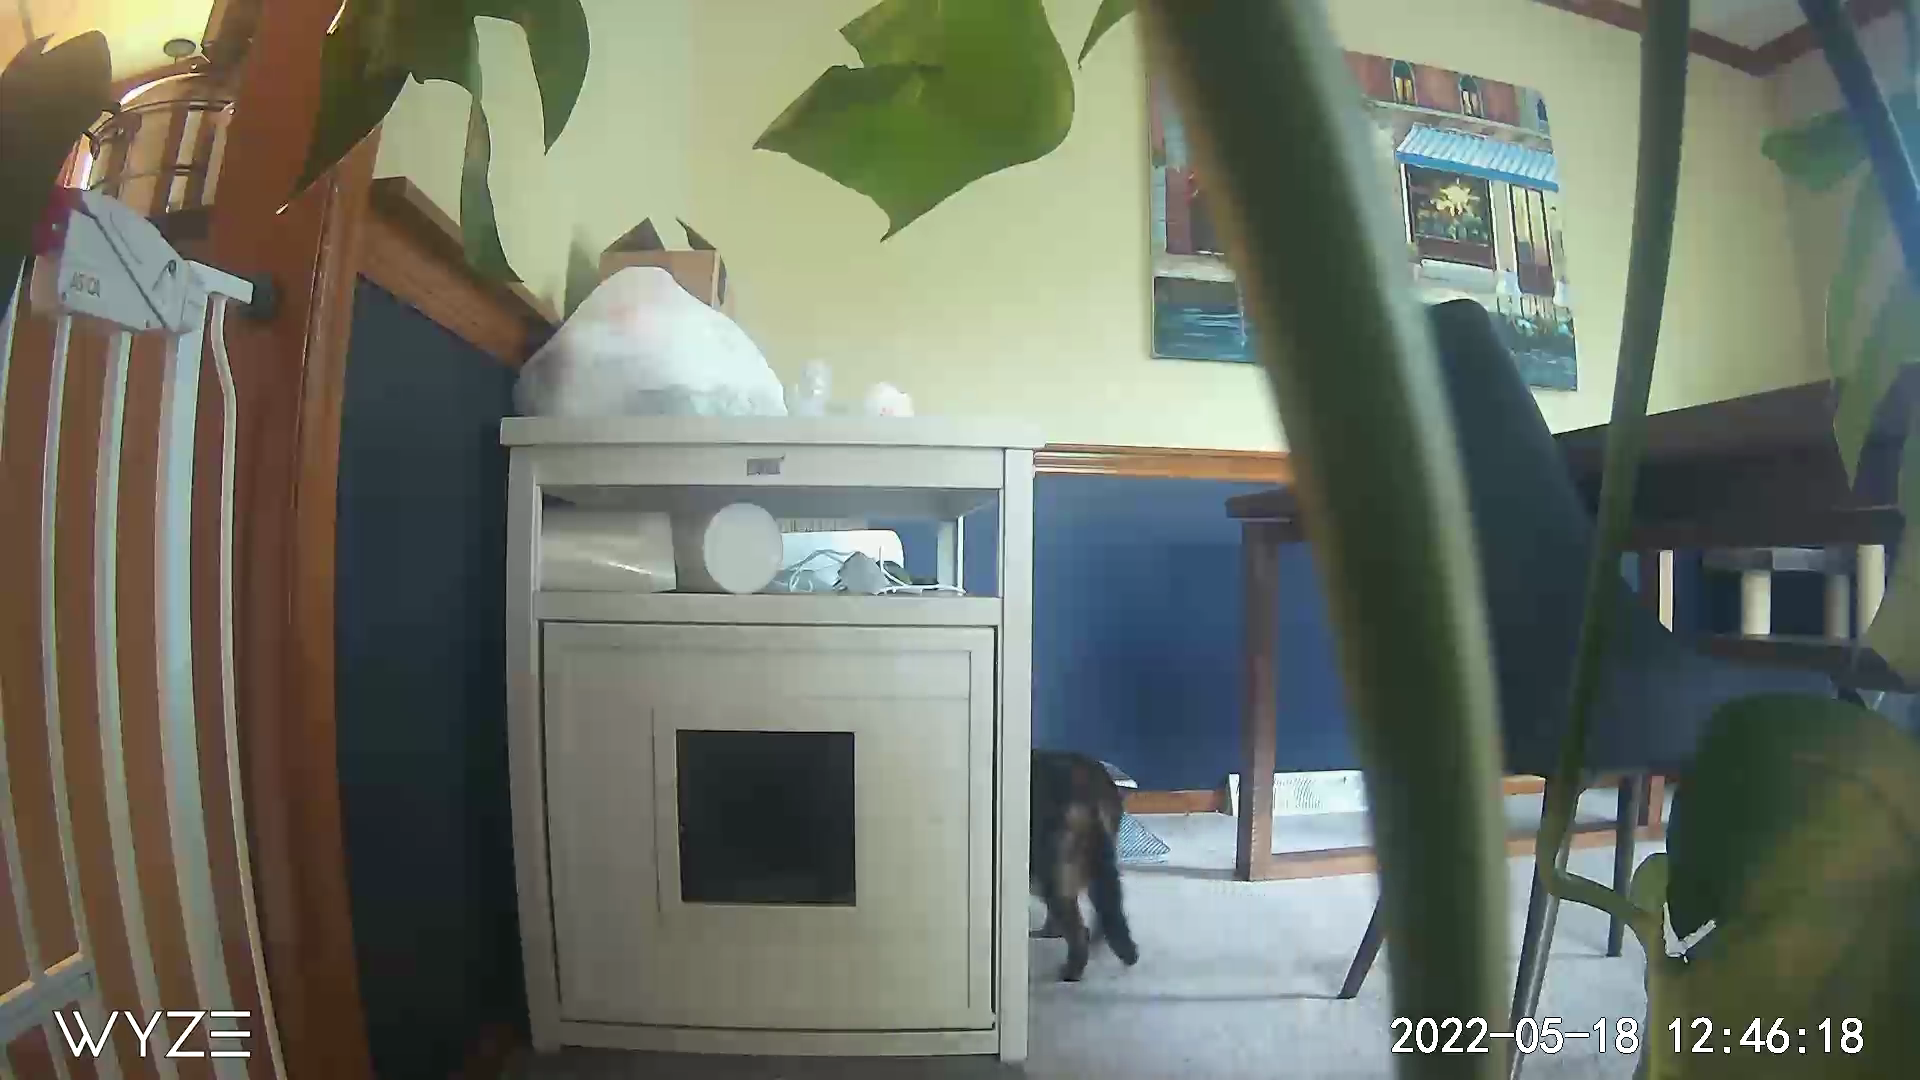sparky: (1026, 744, 1146, 986)
